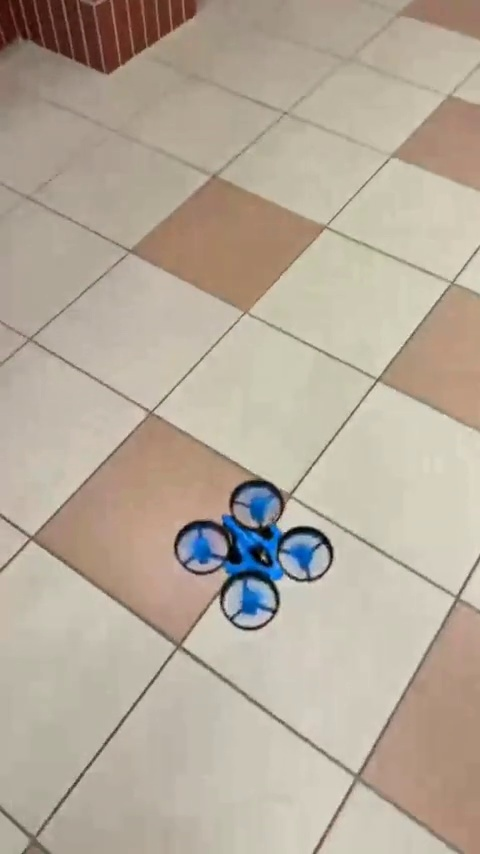drone: (176, 479, 334, 628)
